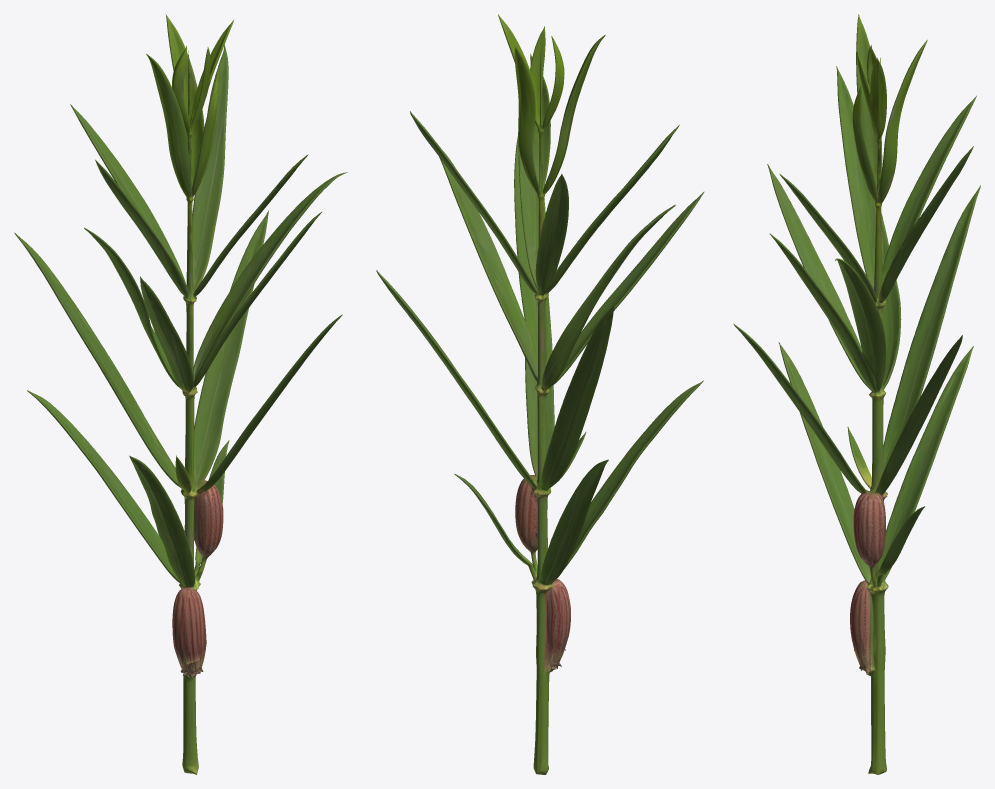
File: caoguo.glb
The picture shows the model from 3 angles, left to right: view 1: azimuth 30°, elevation 25°; view 2: azimuth 150°, elevation 25°; view 3: azimuth 270°, elevation 25°; orthographic projection.
Parts seen in each view (by area): view 1: node_0; view 2: node_0; view 3: node_0.
Boxes of the visible parts, x1,y1,x2,y2 form: node_0: [14, 14, 347, 774]; node_0: [376, 14, 704, 774]; node_0: [733, 14, 980, 774].
Size of the model in its own units: 0.4371 by 1.19 by 0.3638.
Materials: 1 (1 with a texture image).
